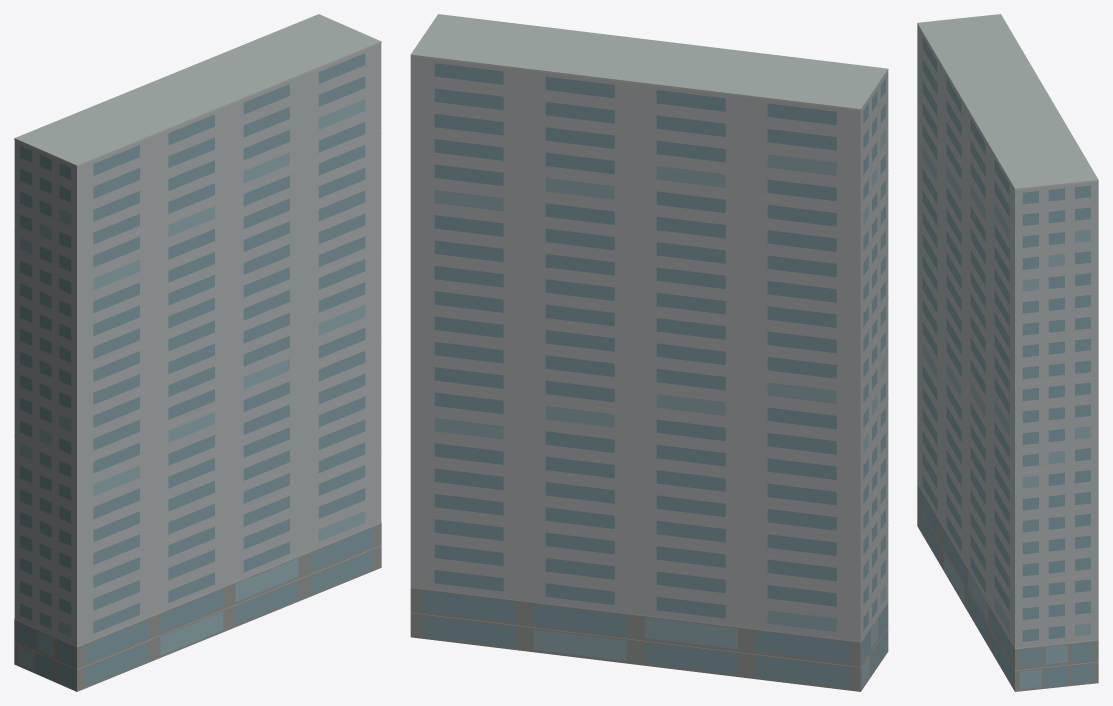
Rendered from residential-9ce8944f-9526-4740-81c9-10734ee5c2a5.glb.
3 renders of one model, left to right at view 1: azimuth 30°, elevation 25°; view 2: azimuth 150°, elevation 25°; view 3: azimuth 270°, elevation 25°, orthographic. The views are drawn at different scales.
Visible parts, largest first — view 1: residential-9ce8944f-9526-4740-81c9-10734ee5c2a5.tmp; view 2: residential-9ce8944f-9526-4740-81c9-10734ee5c2a5.tmp; view 3: residential-9ce8944f-9526-4740-81c9-10734ee5c2a5.tmp.
Part boxes in pixels (x1=…): residential-9ce8944f-9526-4740-81c9-10734ee5c2a5.tmp: x1=14, y1=14, x2=381, y2=691; residential-9ce8944f-9526-4740-81c9-10734ee5c2a5.tmp: x1=410, y1=14, x2=888, y2=691; residential-9ce8944f-9526-4740-81c9-10734ee5c2a5.tmp: x1=917, y1=14, x2=1098, y2=691.
Bounding box in the file's own units: 53.61 × 72 × 23.54.
